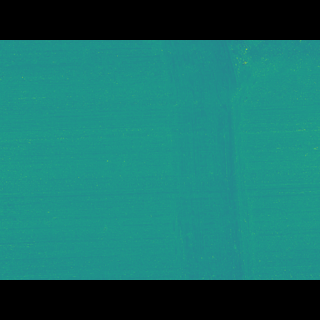Loch: (153, 69, 264, 251)
